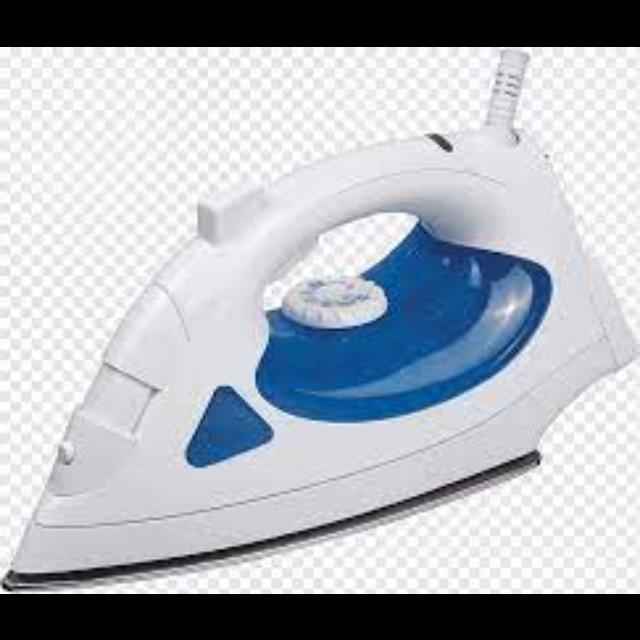Clothes-Iron: (117, 108, 548, 502), (120, 135, 552, 510)
